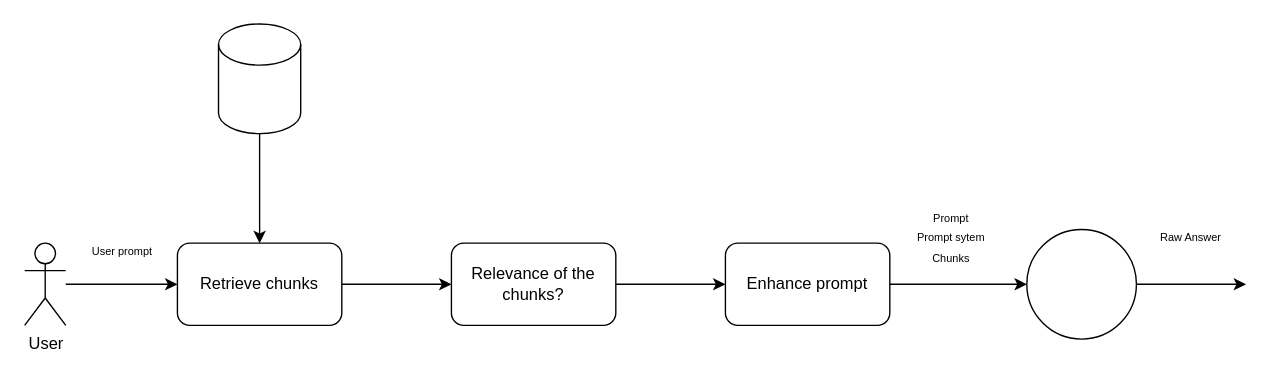
The diagram is 1281 pixels wide and 378 high, and some of its shapes have lost their labels. Here are the shapes that lost their labels. From the top down, the centre of each, then its label:
(x=259, y=78): Chroma DB
(x=1080, y=283): LLM
